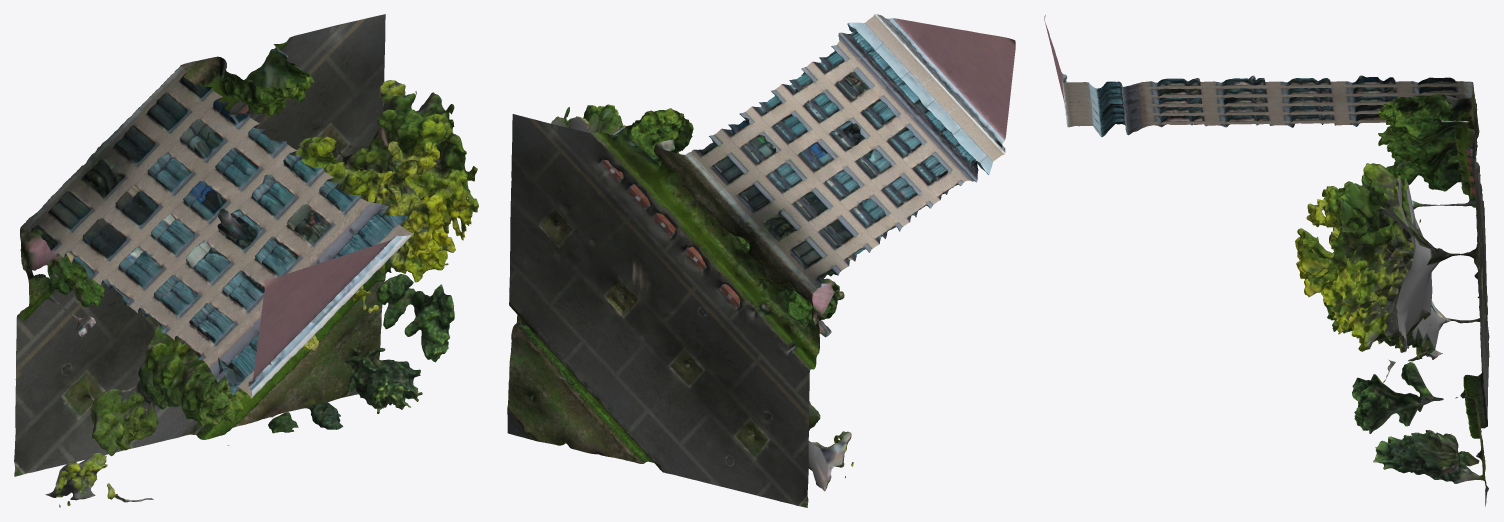
Rendered from Tile_+010_+019.fbx.
3 renders of one model, left to right at view 1: azimuth 30°, elevation 25°; view 2: azimuth 150°, elevation 25°; view 3: azimuth 270°, elevation 25°, orthographic. The views are drawn at different scales.
Visible parts, largest first — view 1: DefaultName; view 2: DefaultName; view 3: DefaultName.
Boxes of the visible parts, left/top/right/bottom form: DefaultName: left=14, top=14, right=478, bottom=507; DefaultName: left=507, top=14, right=1015, bottom=507; DefaultName: left=1044, top=15, right=1489, bottom=506.
Bounding box in the file's own units: 22.54 × 22.54 × 26.99.
